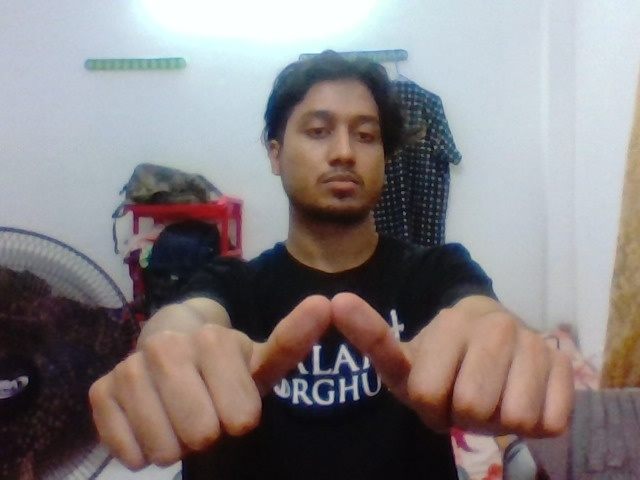A: (73, 275, 582, 466)
